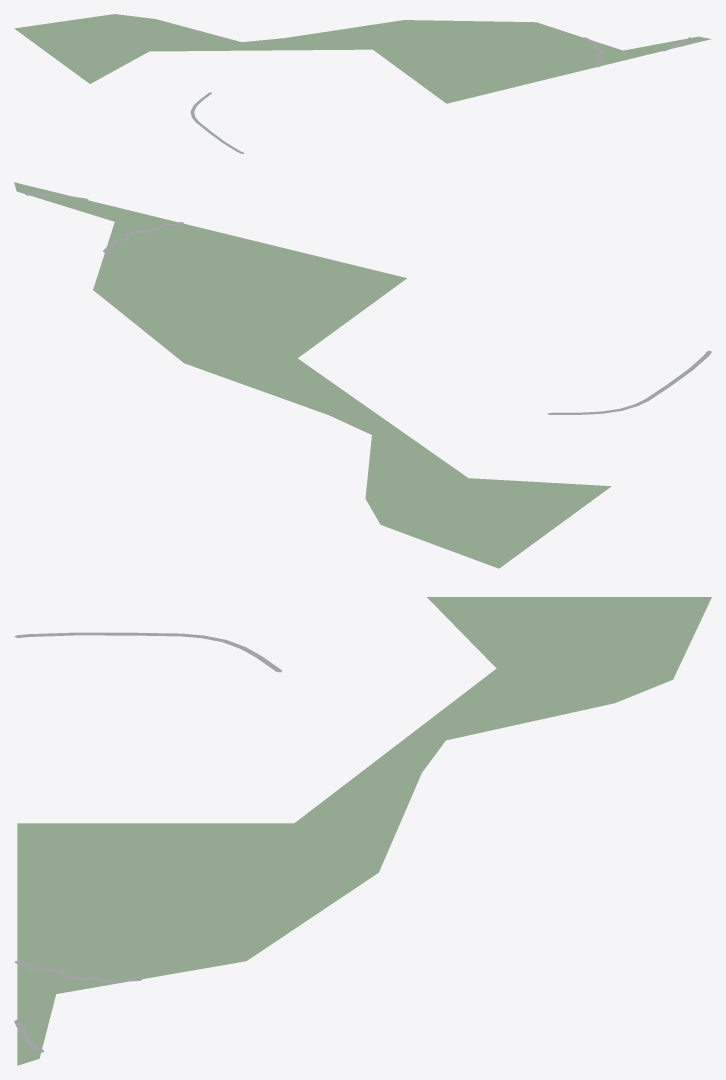
Rendered from 4_5-known-coarse.glb.
3 renders of one model, top to bottom at view 1: azimuth 30°, elevation 25°; view 2: azimuth 150°, elevation 25°; view 3: azimuth 270°, elevation 25°, orthographic. The views are drawn at different scales.
Size of the model in its own units: 493 by 0.1 by 310.
